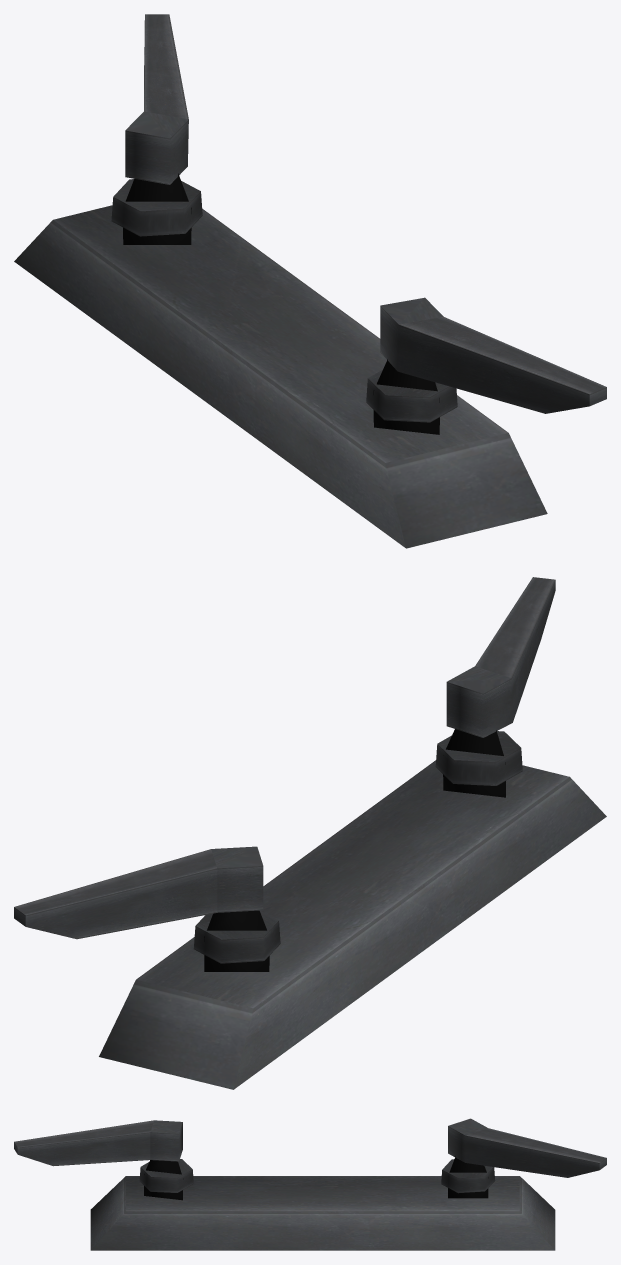
Rendered from p6_kitchen_sink_faucet_handles_lod2.glb.
3 renders of one model, top to bottom at view 1: azimuth 30°, elevation 25°; view 2: azimuth 150°, elevation 25°; view 3: azimuth 270°, elevation 25°, orthographic. The views are drawn at different scales.
Visible parts, largest first — view 1: surf1, surf0; view 2: surf1, surf0; view 3: surf1, surf0.
Part boxes in pixels (left/top/right/bottom): surf1: left=14, top=14, right=606, bottom=548; surf0: left=123, top=173, right=439, bottom=434; surf1: left=14, top=577, right=606, bottom=1089; surf0: left=204, top=729, right=505, bottom=971; surf1: left=14, top=1118, right=606, bottom=1250; surf0: left=144, top=1156, right=488, bottom=1200.
Bounding box in the file's own units: 1.79 × 1.53 × 8.02.
